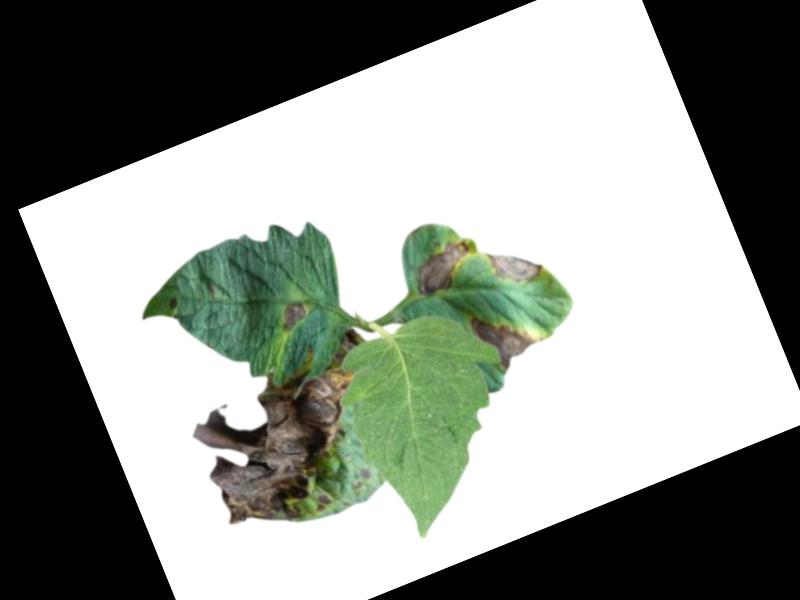Early_blight: (181, 340, 397, 547), (468, 297, 547, 375), (405, 234, 482, 301), (486, 235, 548, 293), (275, 296, 314, 334), (337, 324, 367, 352), (165, 294, 182, 314)
healthy: (317, 282, 555, 549)
